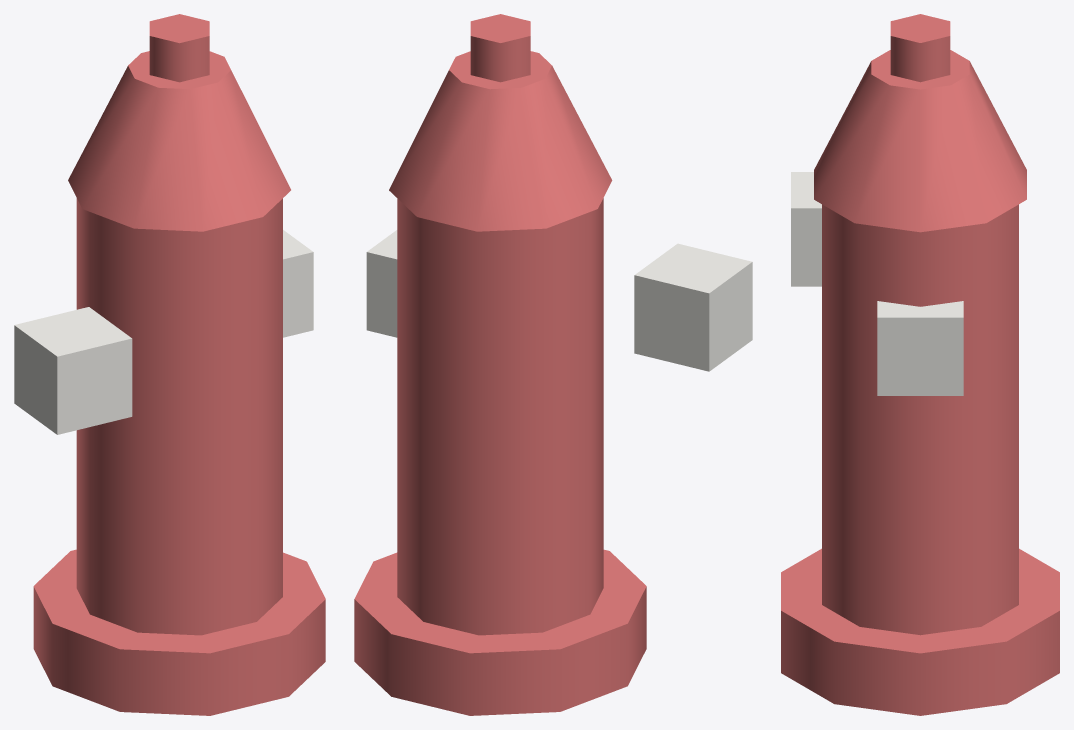
Rendered from hydrant.glb.
3 views of the same model, side by side, from view 1: azimuth 30°, elevation 25°; view 2: azimuth 150°, elevation 25°; view 3: azimuth 270°, elevation 25° (orthographic).
Parts seen in each view (by area): view 1: hydrant; view 2: hydrant; view 3: hydrant.
Boxes of the visible parts, left/top/right/bottom form: hydrant: left=14, top=14, right=325, bottom=715; hydrant: left=354, top=14, right=752, bottom=715; hydrant: left=781, top=14, right=1059, bottom=715.
Size of the model in its own units: 0.42 by 0.8 by 0.3234.
